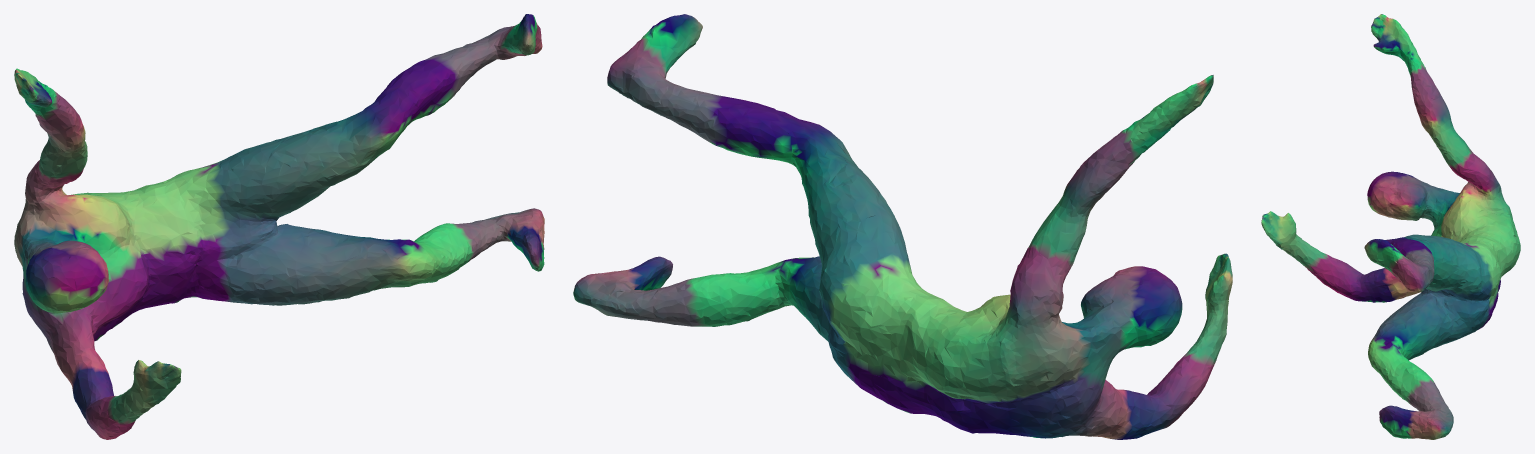
Rendered from man-2.off.obj.
3 renders of one model, left to right at view 1: azimuth 30°, elevation 25°; view 2: azimuth 150°, elevation 25°; view 3: azimuth 270°, elevation 25°, orthographic. The views are drawn at different scales.
Bounding box in the file's own units: 1.51 × 0.9344 × 0.839.
